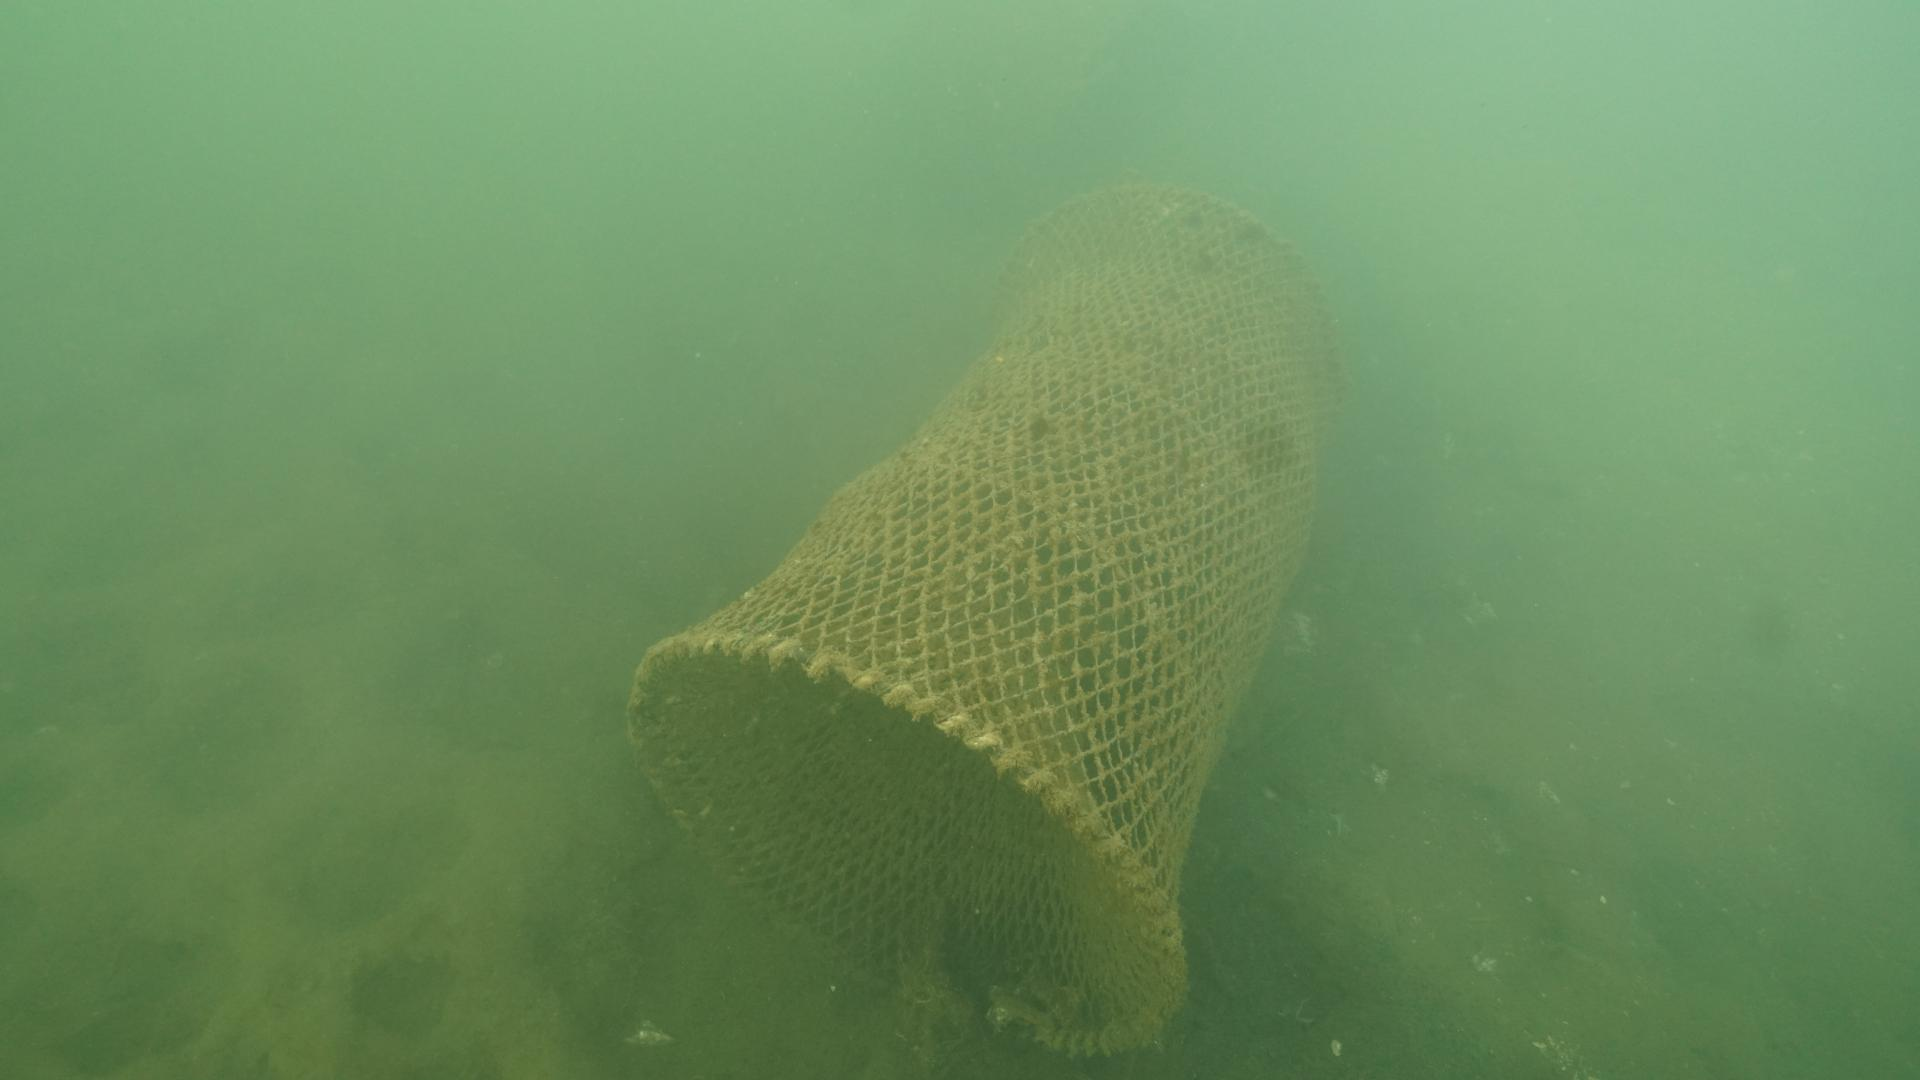spring fish trap: (620, 171, 1352, 1060)
